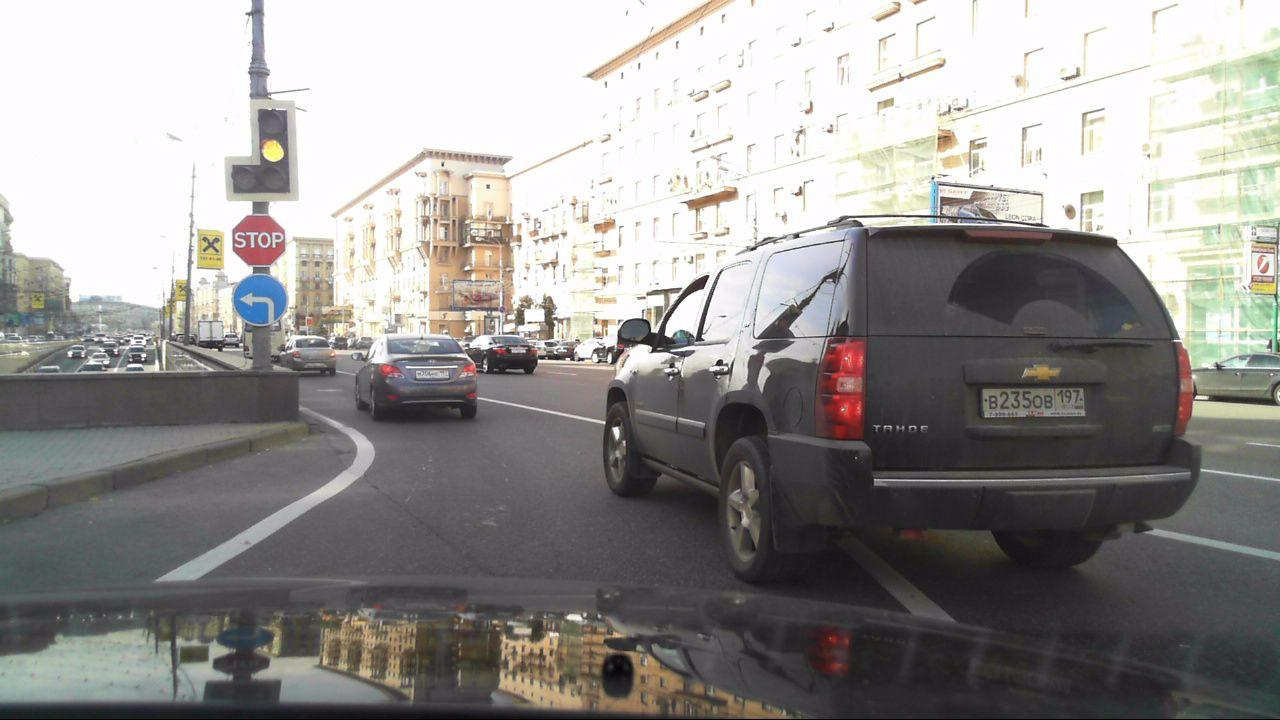2_5: (231, 211, 291, 265)
4_1_3: (233, 270, 289, 327)
